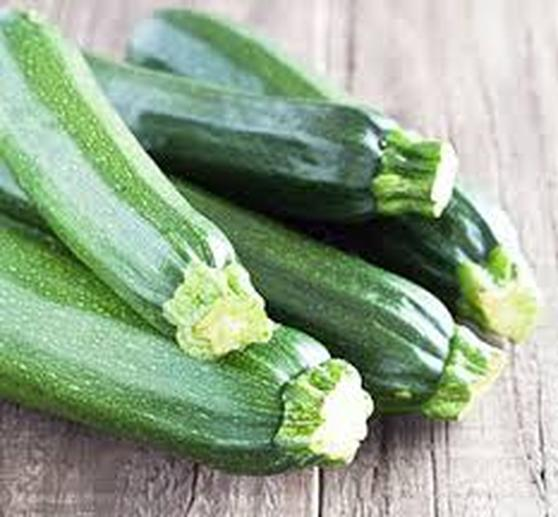zucchini: (2, 1, 271, 357), (87, 55, 525, 223)
